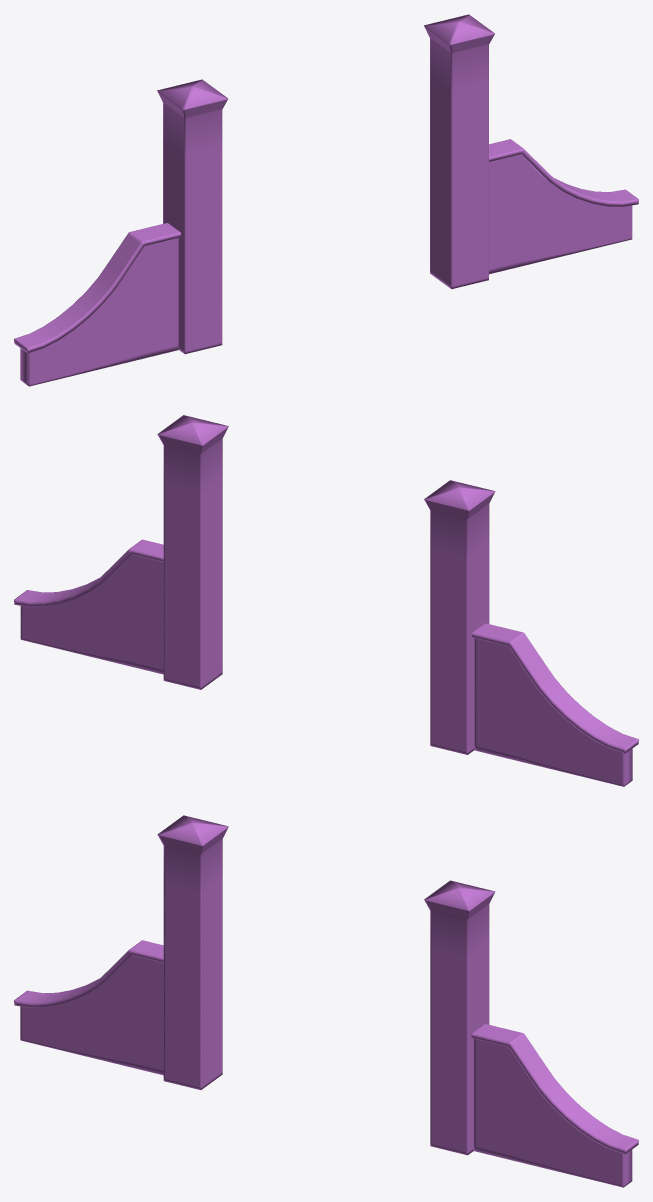
Rendered from Struct_Fence1_Gate_B.fbx.
3 renders of one model, top to bottom at view 1: azimuth 30°, elevation 25°; view 2: azimuth 150°, elevation 25°; view 3: azimuth 330°, elevation 25°, orthographic.
Visible parts, largest first — view 1: Struct_Fence1_Gate_B_LOD0; view 2: Struct_Fence1_Gate_B_LOD0; view 3: Struct_Fence1_Gate_B_LOD0.
Boxes of the visible parts, bbox=[...] form: Struct_Fence1_Gate_B_LOD0: bbox=[14, 14, 638, 386]; Struct_Fence1_Gate_B_LOD0: bbox=[14, 415, 638, 786]; Struct_Fence1_Gate_B_LOD0: bbox=[14, 815, 638, 1187].
Size of what is drawn, in the model's own units: 14.68 by 5.86 by 1.09.
